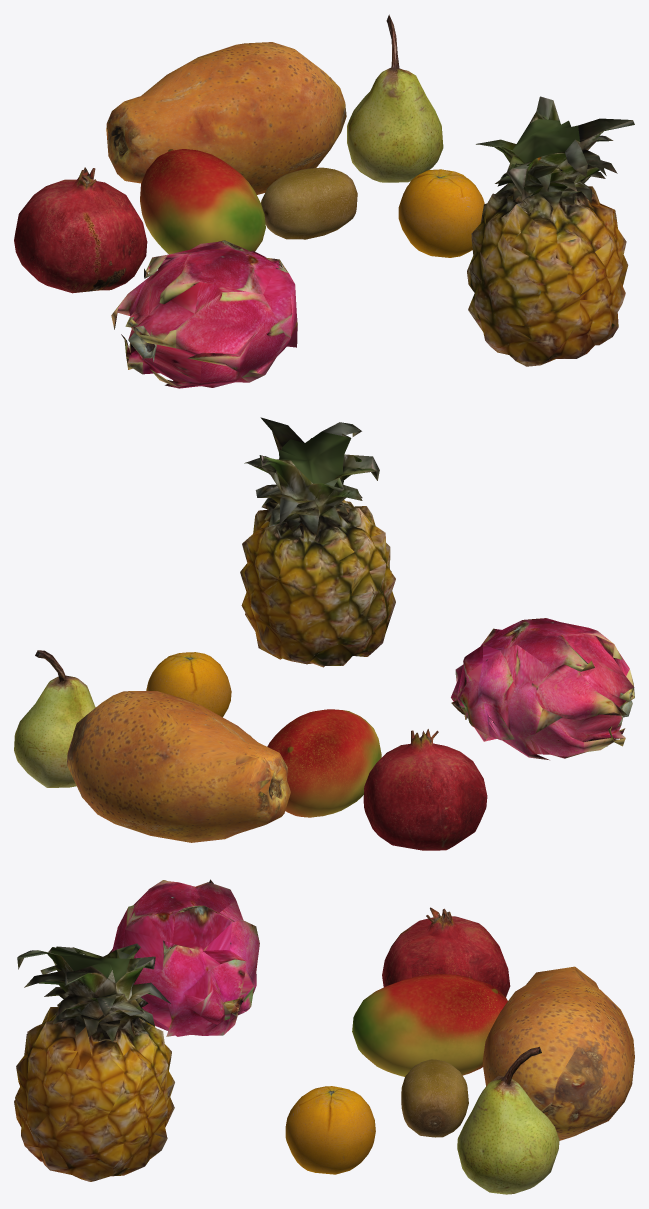
File: fruit.fbx
3 views of the same model, one above another, from view 1: azimuth 30°, elevation 25°; view 2: azimuth 150°, elevation 25°; view 3: azimuth 270°, elevation 25° (orthographic). The views are drawn at different scales.
Parts seen in each view (by area): view 1: pineapple, Papaja, dragon fruit, Pomegrande, Mango, Pear, Orange_defaultMat_0, Kiwi; view 2: pineapple, Papaja, dragon fruit, Pomegrande, Mango, Pear, Orange_defaultMat_0; view 3: pineapple, Papaja, dragon fruit, Mango, Pear, Pomegrande, Orange_defaultMat_0, Kiwi.
Boxes of the visible parts, bbox=[...] form: pineapple: bbox=[467, 96, 634, 366]; Papaja: bbox=[106, 42, 346, 194]; dragon fruit: bbox=[111, 240, 297, 388]; Pomegrande: bbox=[14, 167, 147, 293]; Mango: bbox=[140, 149, 265, 254]; Pear: bbox=[347, 14, 443, 182]; Orange_defaultMat_0: bbox=[398, 169, 484, 257]; Kiwi: bbox=[261, 167, 357, 239]; pineapple: bbox=[240, 417, 395, 667]; Papaja: bbox=[67, 691, 290, 842]; dragon fruit: bbox=[451, 618, 634, 760]; Pomegrande: bbox=[363, 729, 487, 850]; Mango: bbox=[267, 709, 381, 817]; Pear: bbox=[14, 650, 95, 787]; Orange_defaultMat_0: bbox=[146, 652, 231, 717]; pineapple: bbox=[14, 943, 174, 1181]; Papaja: bbox=[482, 966, 634, 1140]; dragon fruit: bbox=[109, 879, 259, 1036]; Mango: bbox=[352, 974, 507, 1076]; Pear: bbox=[457, 1046, 559, 1194]; Pomegrande: bbox=[382, 907, 510, 997]; Orange_defaultMat_0: bbox=[285, 1086, 375, 1174]; Kiwi: bbox=[401, 1059, 468, 1137].
Size of the model in its own units: 43.23 by 19.04 by 49.21.
8 materials, 8 textured.
